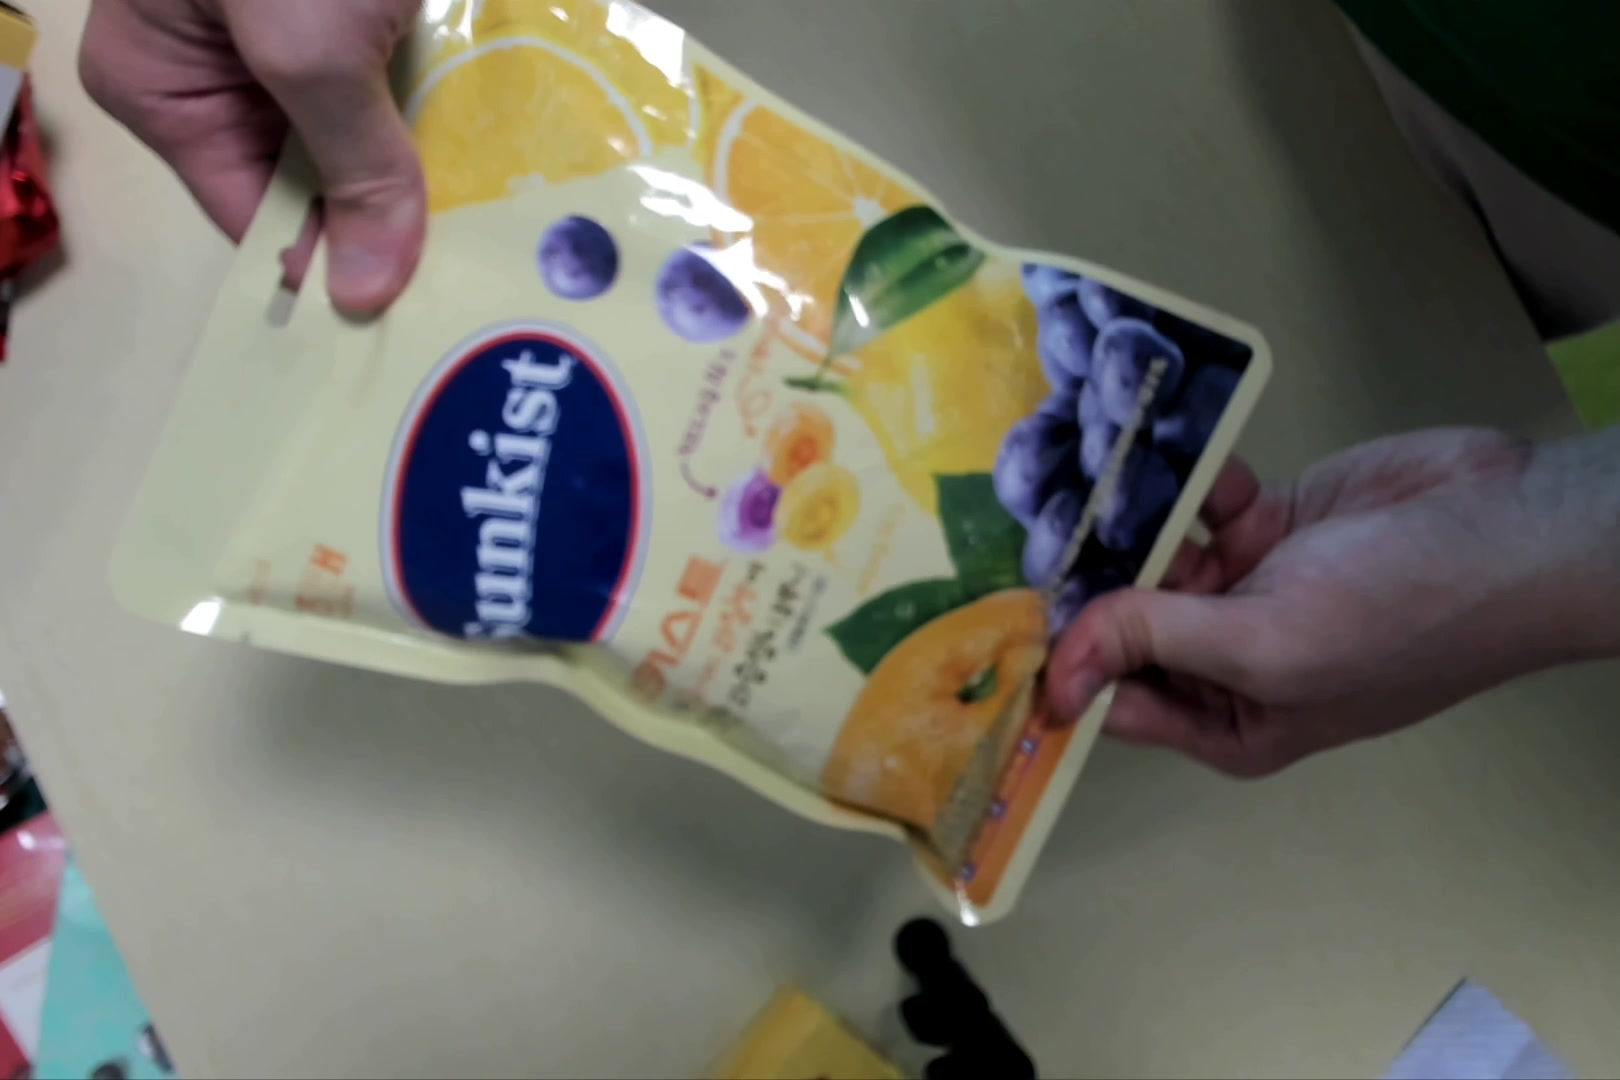SweetsChocolatesOthers_100-199g_NonHalal_NonHealthy: (111, 1, 1270, 937)
